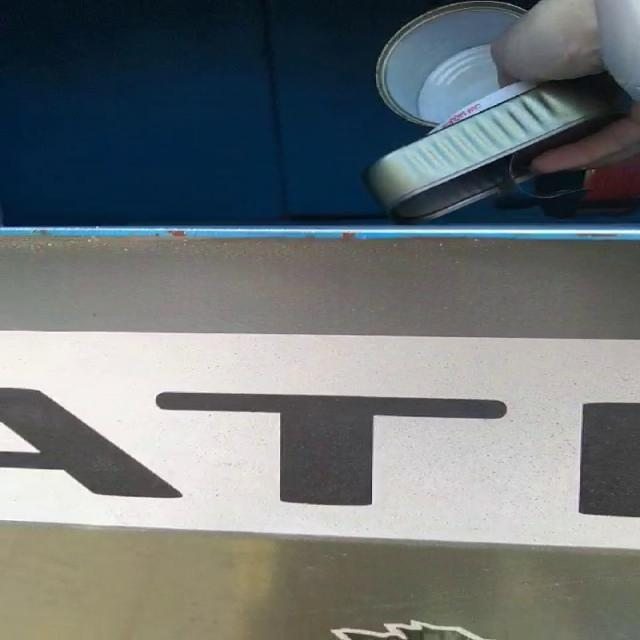bin: (1, 0, 640, 340), (2, 522, 640, 640)
metal: (367, 1, 631, 222), (528, 160, 640, 212)
